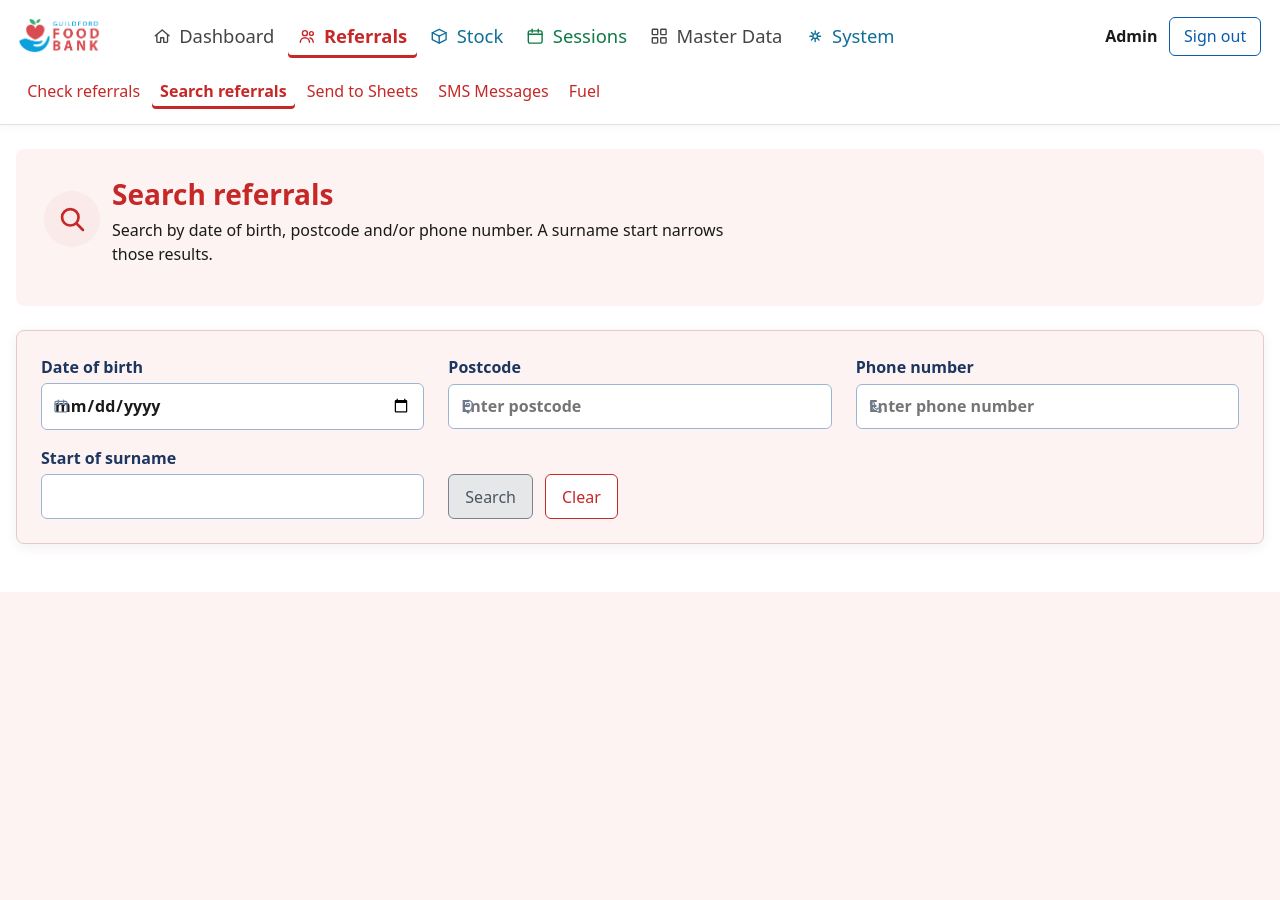
it: administrator referral search › keeps the cause and notes summary in the Notes cell of the same result row
The width and height of the screenshot is (1280, 900).
Type "1985-03-04" into the date field labelled "Date of birth" at {"x": 233, "y": 406}, box [41,383,424,430]
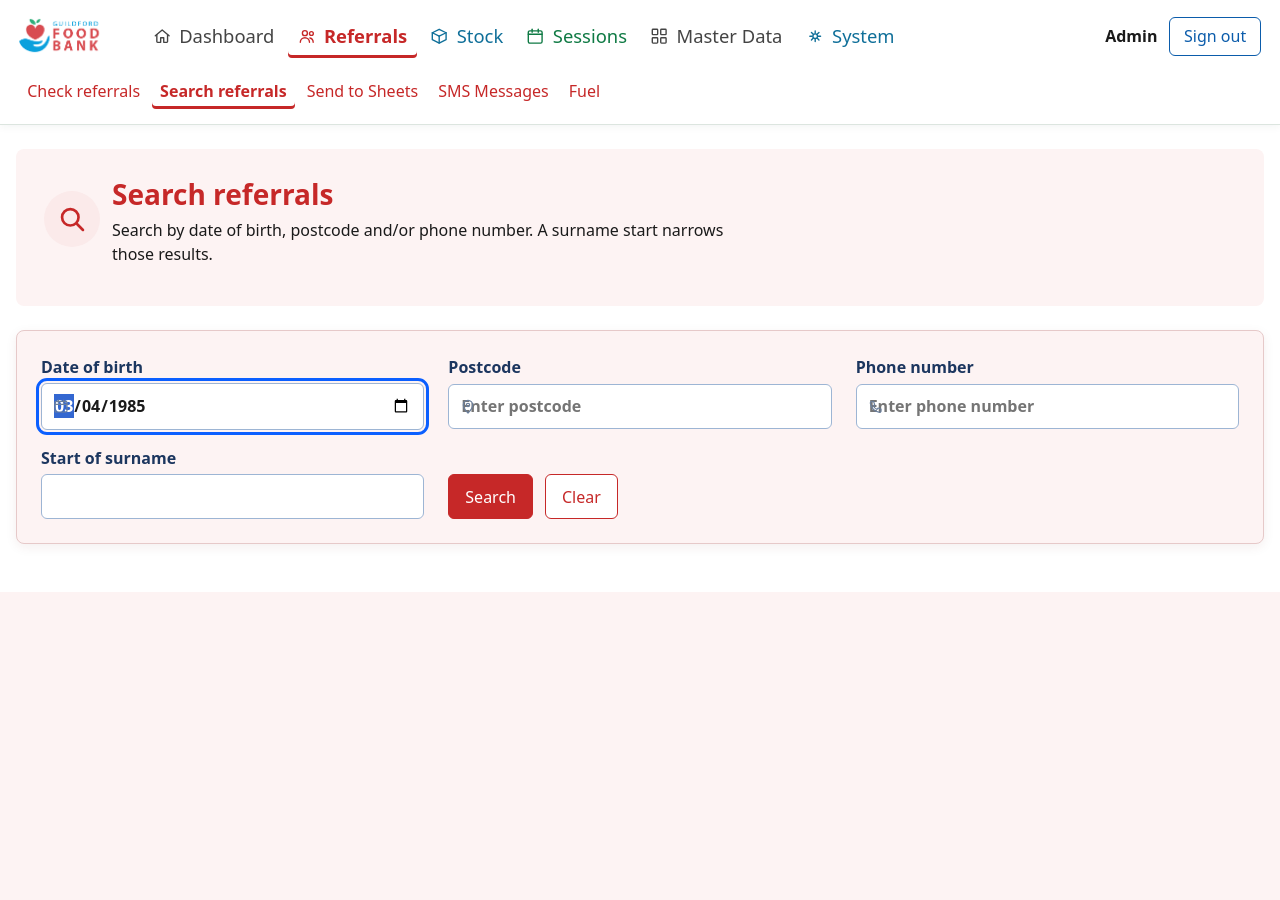
Type "GU23 4XX" into the field labelled "Postcode" at {"x": 640, "y": 406}, box [448,384,832,429]
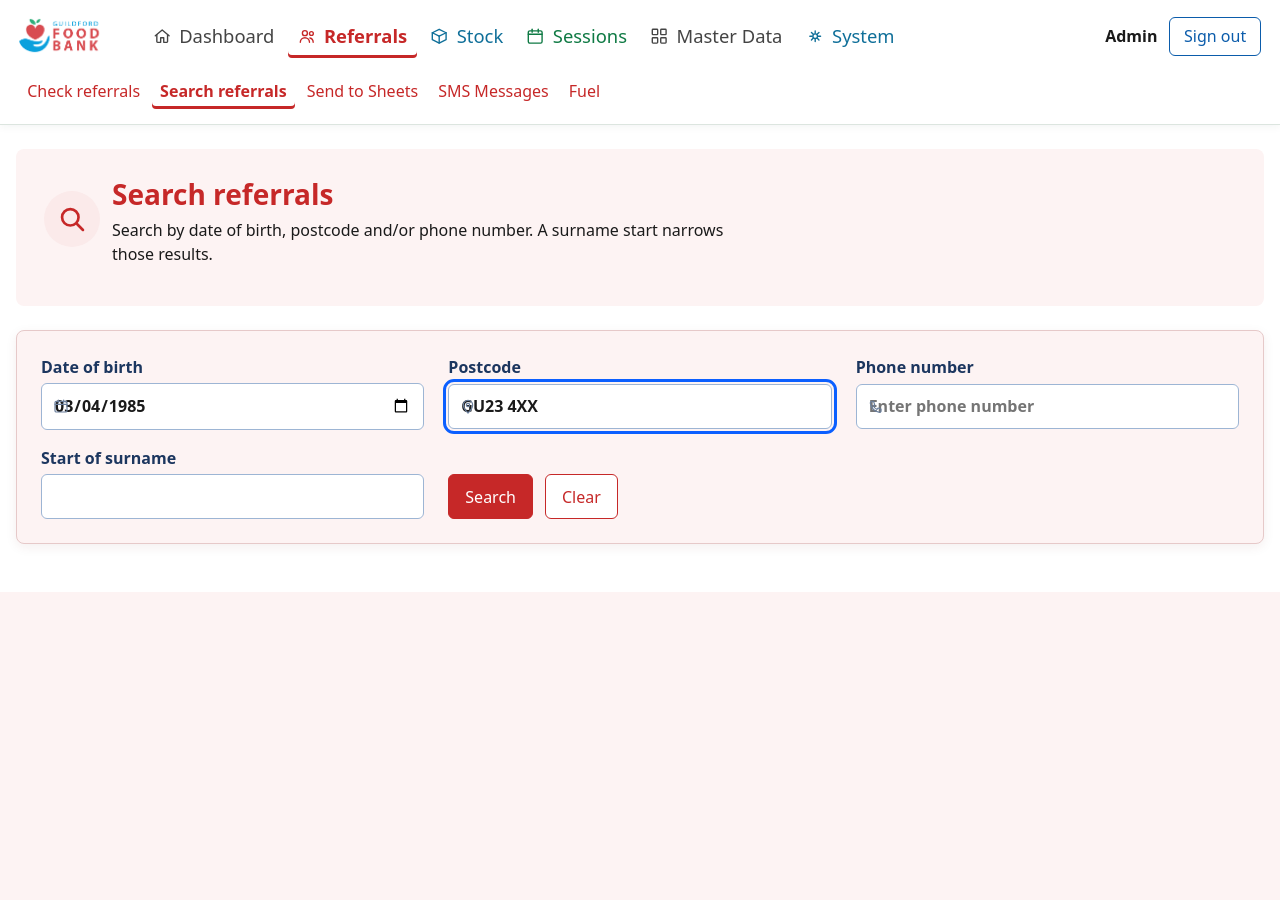
Type "01483 123456" into the field labelled "Phone number" at {"x": 1047, "y": 406}, box [856,384,1239,429]
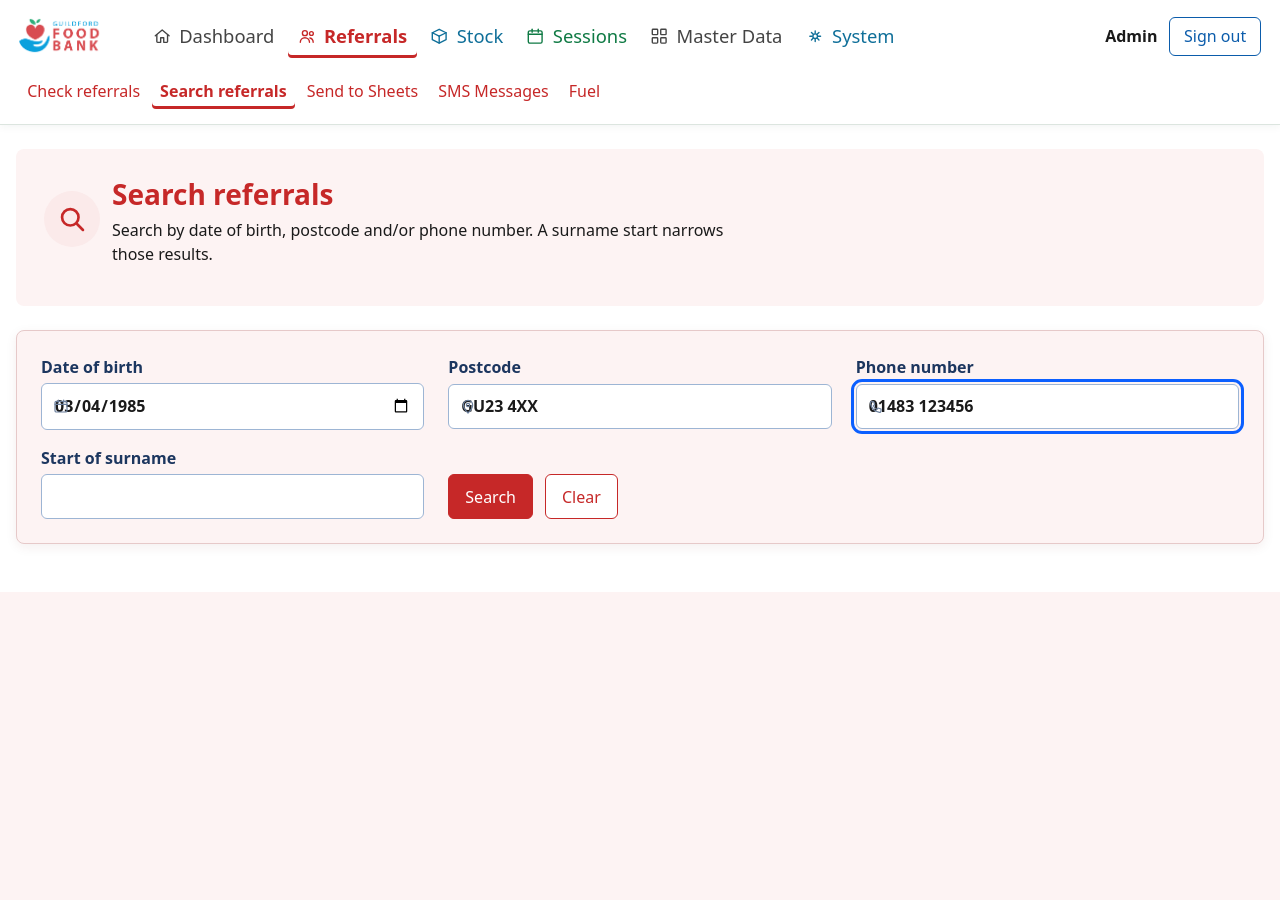
Type "Ro" into the field labelled "Start of surname" at {"x": 233, "y": 496}, box [41,474,424,519]
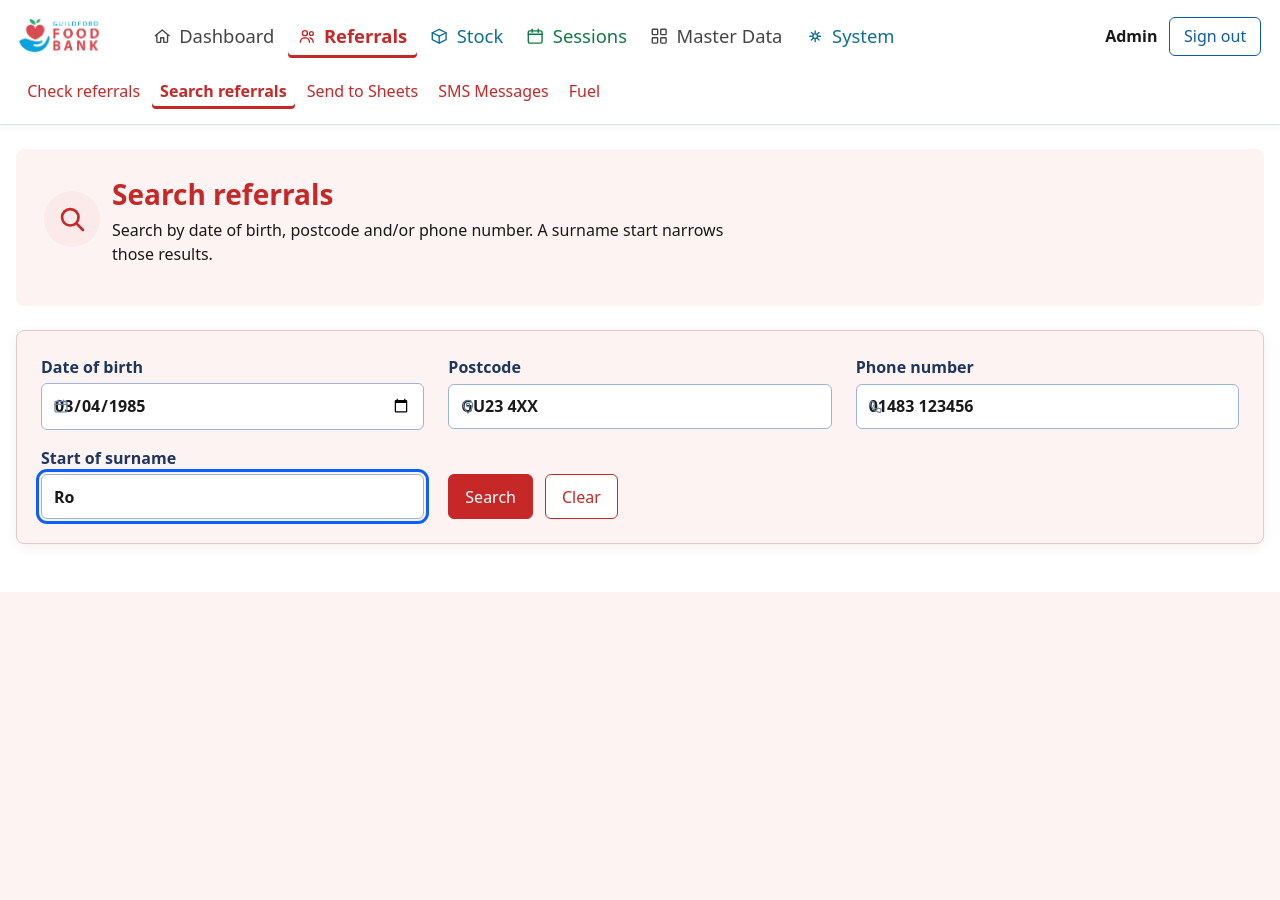
Click the button "Search" at {"x": 491, "y": 496}, box [448,474,533,519]
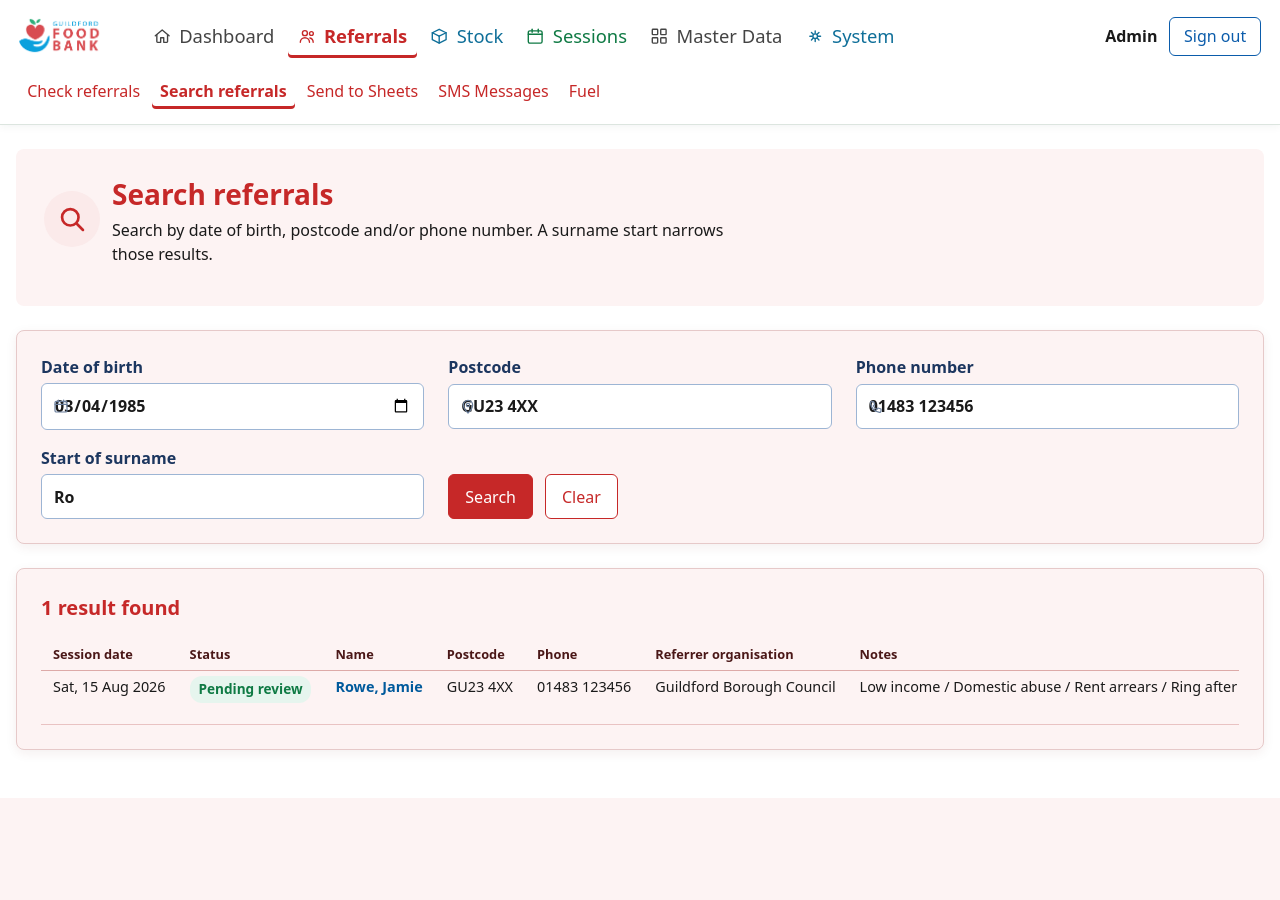
Now the text "Sat, 15 Aug 2026" is shown, box [41,670,178,725]
Now the text "Pending review" is shown, box [190,676,312,703]
Now the text "GU23 4XX" is shown, box [435,670,525,725]
